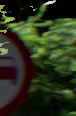No overtake: (0, 15, 33, 107)
